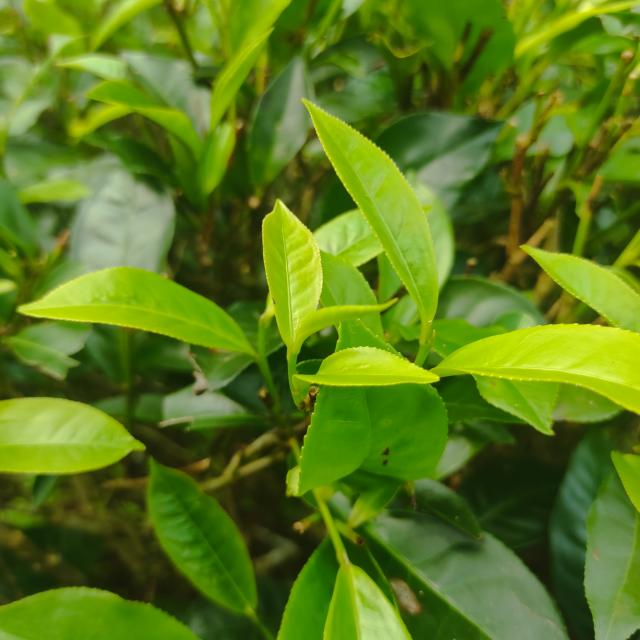unopened_leaf: (283, 290, 409, 359)
